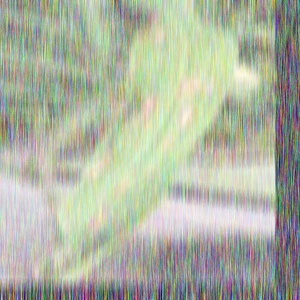Brown_Spot: (82, 136, 121, 179), (119, 88, 164, 125), (72, 201, 118, 236), (95, 176, 144, 206), (174, 72, 222, 95), (169, 102, 198, 132), (143, 6, 171, 32), (146, 19, 171, 46), (154, 128, 178, 155), (126, 25, 150, 48), (117, 63, 141, 85), (124, 134, 146, 154), (138, 117, 161, 136), (137, 162, 159, 180)
